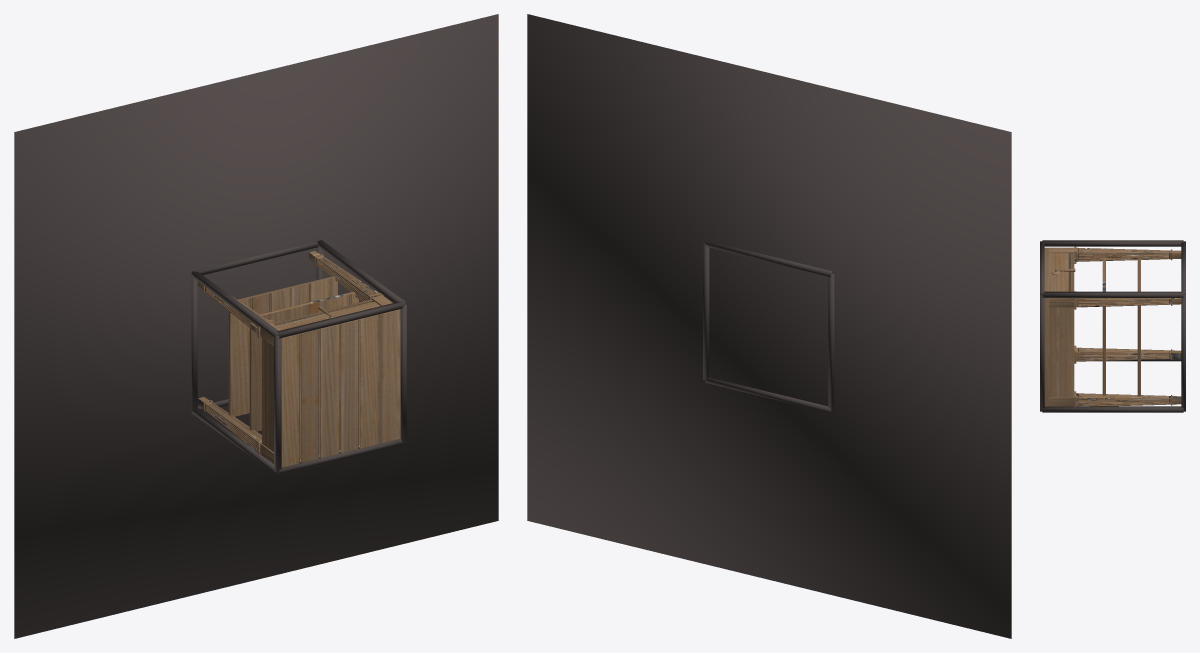
3 views of the same model, side by side, from view 1: azimuth 30°, elevation 25°; view 2: azimuth 150°, elevation 25°; view 3: azimuth 270°, elevation 25° (orthographic). The views are drawn at different scales.
Bounding box in the file's own units: 2 × 2 × 0.6207.
